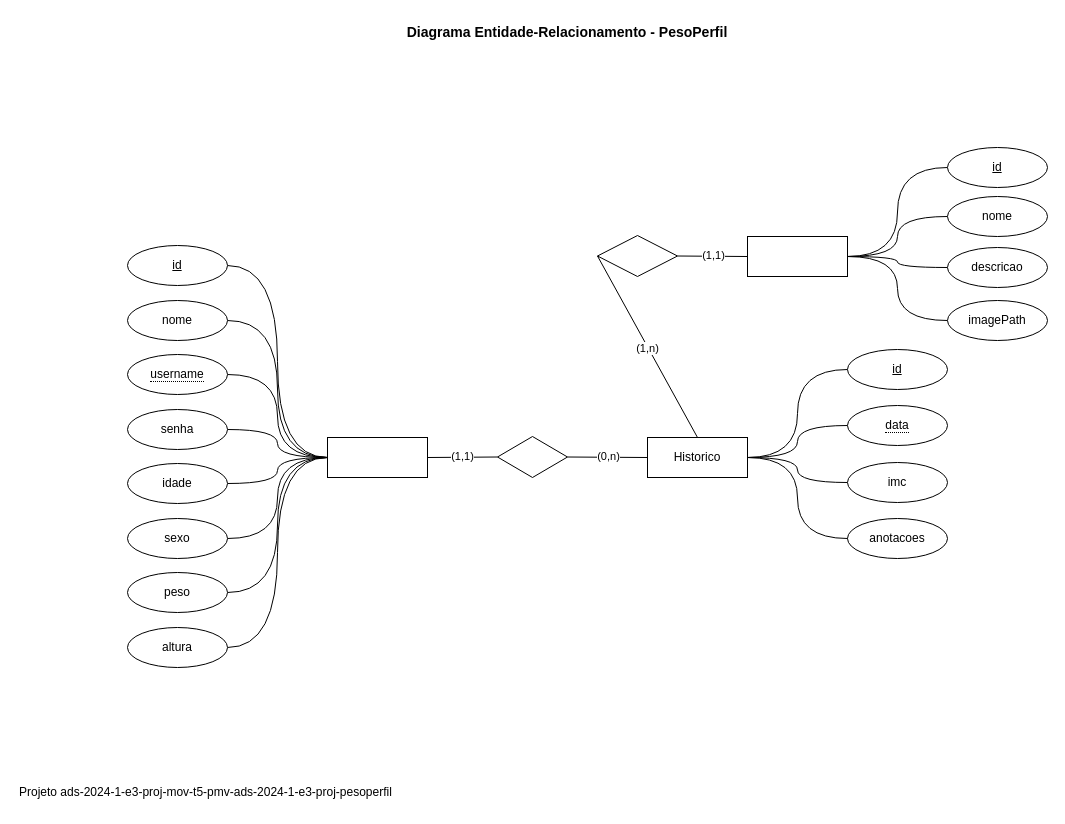
The diagram is 1065 pixels wide and 824 high, and some of its shapes have lost their labels. Each missing label, with the centre of its shape:
"Classificacao" belongs at [797,256].
"Possui" belongs at [637,255].
"Tem" belongs at [532,457].
"Usuário" belongs at [377,457].
